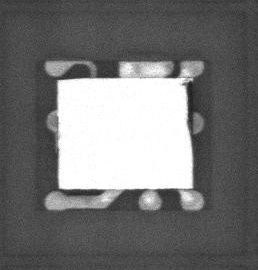DIE_BROKEN: (180, 77, 193, 136)
